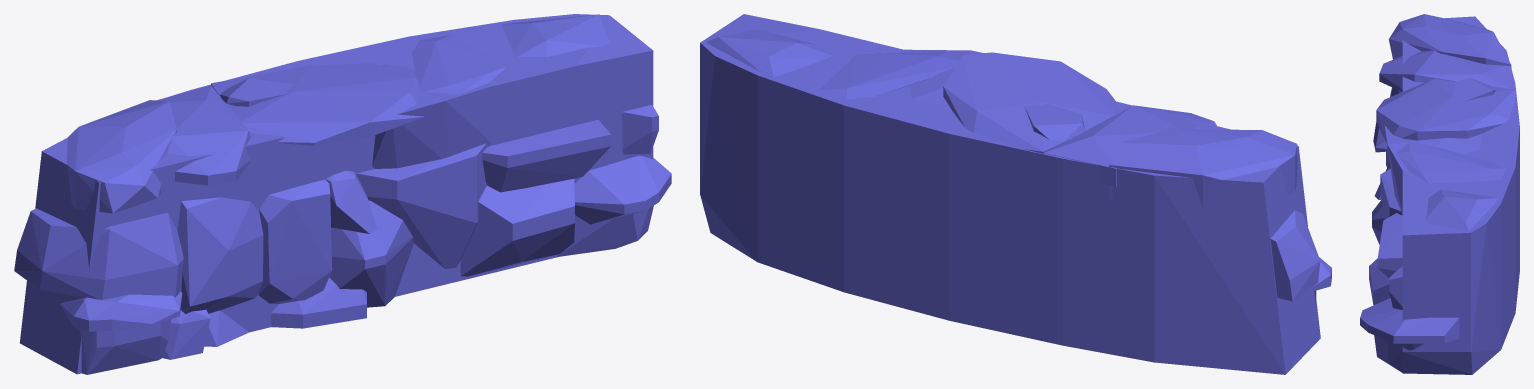
The model's file is Ledge_02_Collider_01.FBX.
The picture shows the model from 3 angles, left to right: view 1: azimuth 30°, elevation 25°; view 2: azimuth 150°, elevation 25°; view 3: azimuth 270°, elevation 25°; orthographic projection. The views are drawn at different scales.
Parts seen in each view (by area): view 1: COLLIDER1, COLLIDER2, COLLIDER6, COLLIDER3, COLLIDER13, COLLIDER7, COLLIDER12, COLLIDER17, COLLIDER16, COLLIDER5, COLLIDER15, COLLIDER10 (+12 smaller); view 2: COLLIDER1, COLLIDER6, COLLIDER3, COLLIDER5, COLLIDER21, COLLIDER20, COLLIDER2, COLLIDER24, COLLIDER16; view 3: COLLIDER1, COLLIDER6, COLLIDER3, COLLIDER5, COLLIDER21, COLLIDER11, COLLIDER20, COLLIDER16, COLLIDER15, COLLIDER14, COLLIDER24, COLLIDER13 (+4 smaller).
Part boxes in pixels (x1,y1,x2,y2): COLLIDER1: (19,14,653,374); COLLIDER2: (14,208,183,299); COLLIDER6: (211,63,424,145); COLLIDER3: (66,100,176,213); COLLIDER13: (356,143,486,268); COLLIDER7: (177,197,263,313); COLLIDER12: (460,179,574,276); COLLIDER17: (258,179,332,303); COLLIDER16: (372,64,493,168); COLLIDER5: (156,85,250,185); COLLIDER15: (482,119,610,192); COLLIDER10: (329,200,413,307); COLLIDER1: (700,14,1320,374); COLLIDER6: (943,52,1119,153); COLLIDER3: (1109,129,1297,209); COLLIDER5: (1044,105,1216,186); COLLIDER21: (819,52,958,99); COLLIDER20: (706,29,831,77); COLLIDER2: (1270,210,1320,301); COLLIDER24: (1024,104,1085,141); COLLIDER16: (901,49,983,111); COLLIDER1: (1402,16,1519,374); COLLIDER6: (1376,79,1515,144); COLLIDER3: (1388,14,1511,66); COLLIDER5: (1379,50,1513,91); COLLIDER21: (1397,142,1505,183); COLLIDER11: (1360,298,1459,343); COLLIDER20: (1425,189,1497,231); COLLIDER16: (1384,125,1482,215); COLLIDER15: (1377,213,1402,283); COLLIDER14: (1374,335,1423,372); COLLIDER24: (1452,77,1496,101); COLLIDER13: (1380,168,1401,219).
Bounding box in the file's own units: 400 × 129 × 116.
